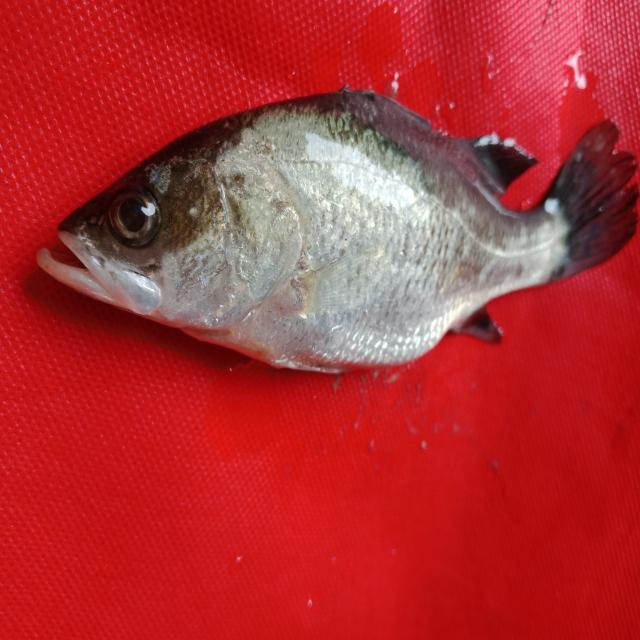ikan: (27, 65, 631, 391)
